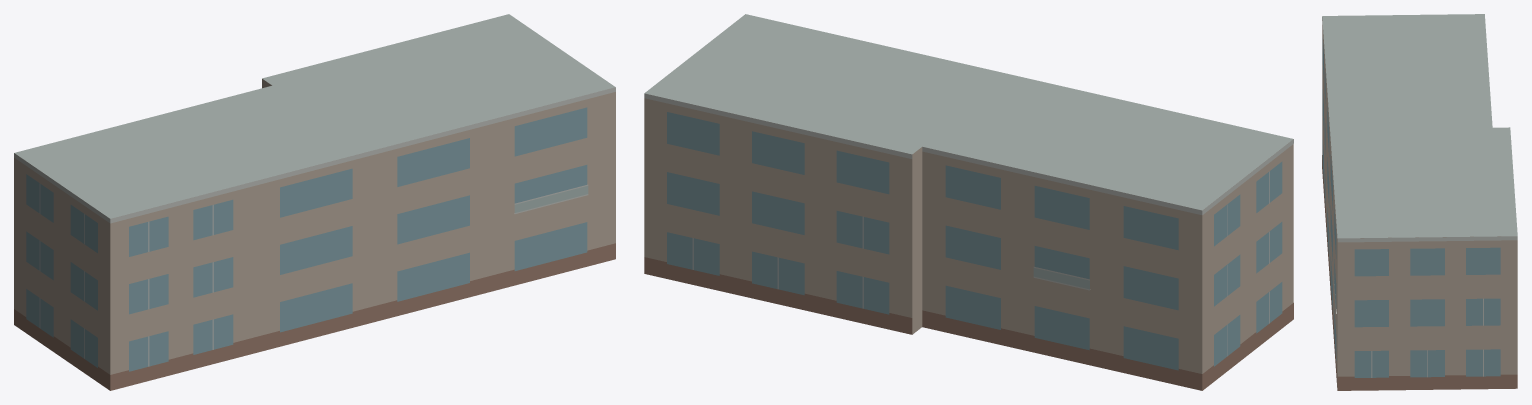
File: survey-upis-32662003.glb
The picture shows the model from 3 angles, left to right: view 1: azimuth 30°, elevation 25°; view 2: azimuth 150°, elevation 25°; view 3: azimuth 270°, elevation 25°; orthographic projection. The views are drawn at different scales.
Parts seen in each view (by area): view 1: survey-upis-32662003.tmp; view 2: survey-upis-32662003.tmp; view 3: survey-upis-32662003.tmp.
Boxes of the visible parts, x1,y1,x2,y2 form: survey-upis-32662003.tmp: [14, 14, 615, 390]; survey-upis-32662003.tmp: [644, 14, 1293, 390]; survey-upis-32662003.tmp: [1322, 14, 1517, 390].
Size of the model in its own units: 28.88 by 9.15 by 10.64.
